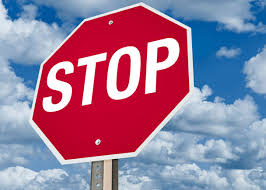stop_sign: (30, 2, 195, 164)
